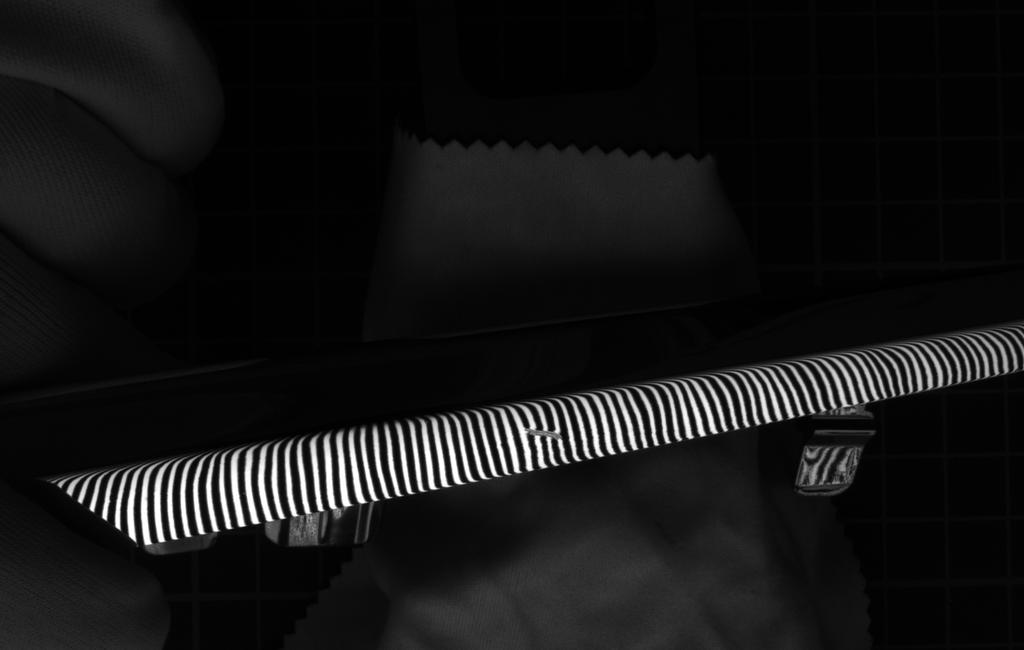Scratch: (511, 423, 577, 449)
